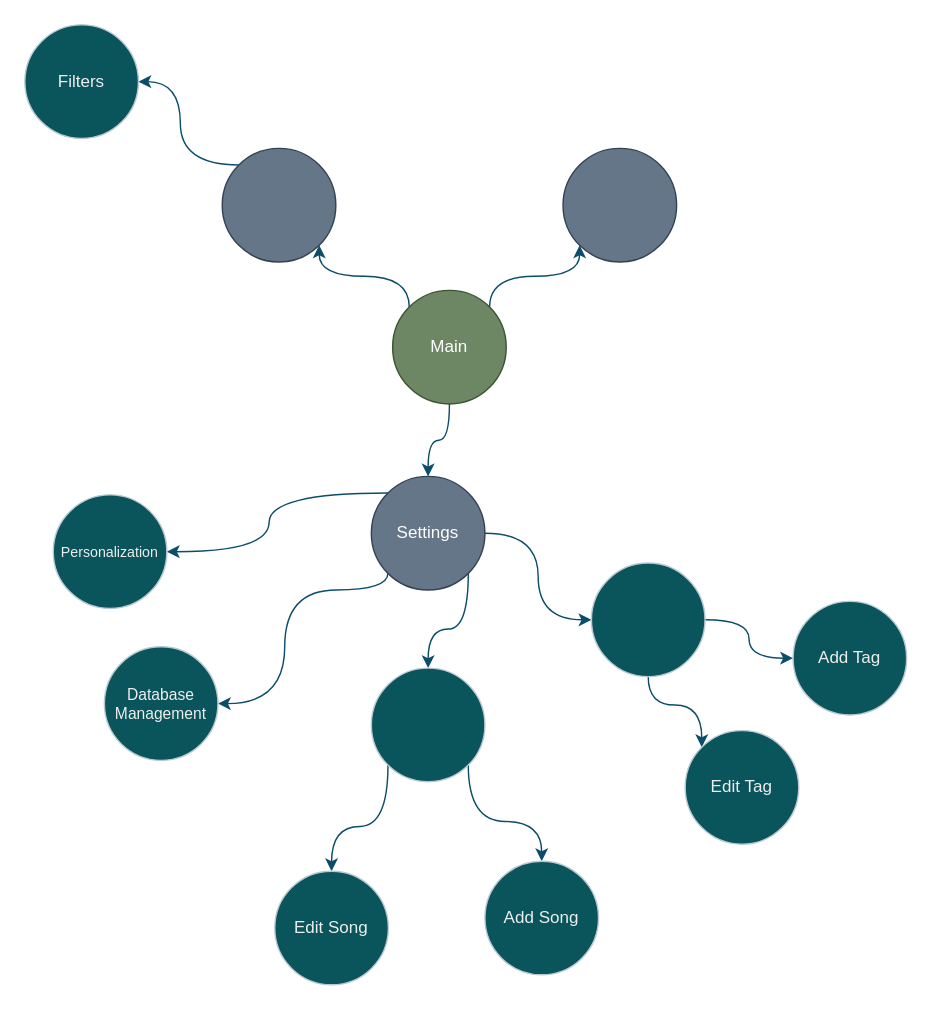
This 932x1010 diagram has some shape labels left out. Here are the shapes that lost their labels. From the top down, the centre of each, then its label:
At point (278, 204): "Playlist".
At point (619, 204): "Player".
At point (647, 619): "Tags".
At point (427, 724): "Songs".
